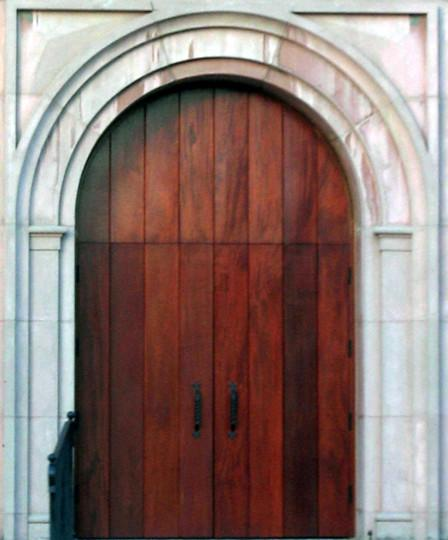door: (74, 79, 358, 540)
